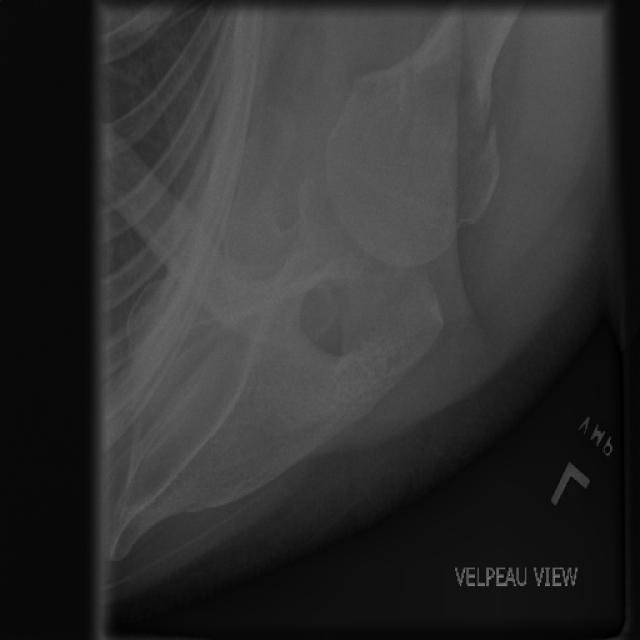shoulder fracture: (451, 82, 528, 191)
